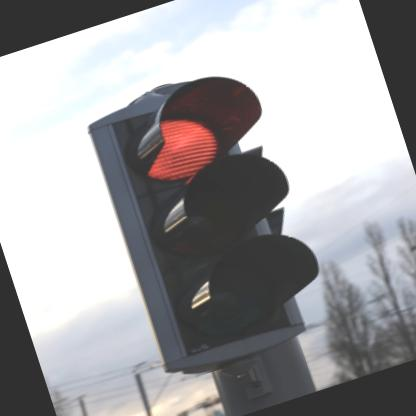trafficlight: (78, 54, 344, 383)
